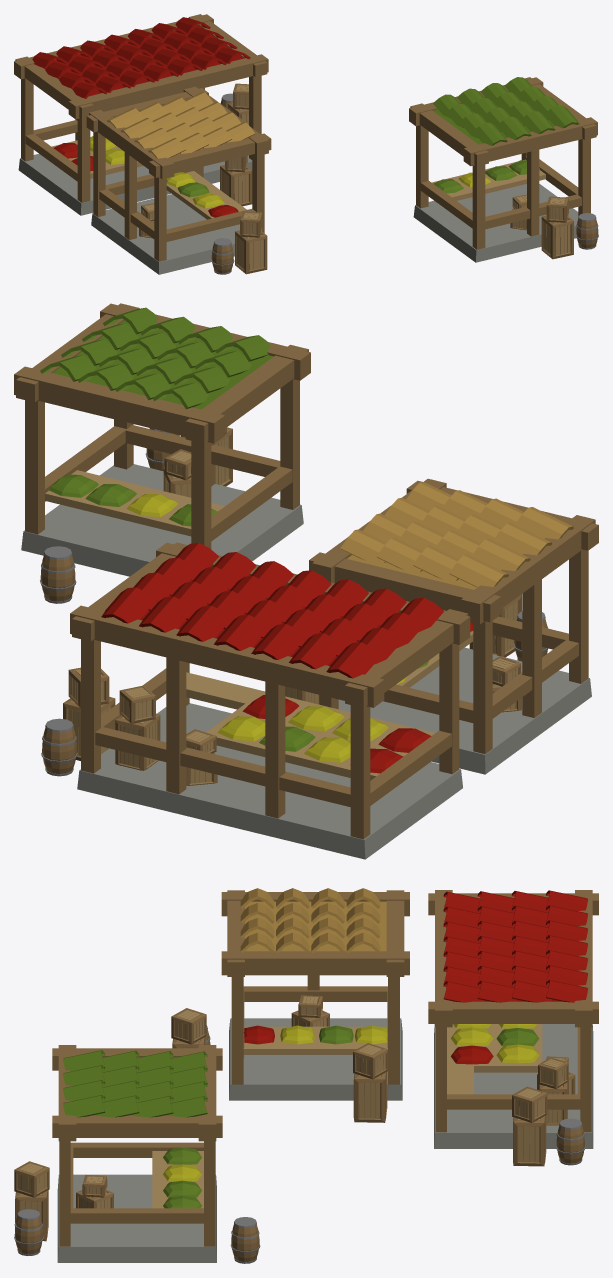
Rendered from market_second_age_level_2.glb.
The picture shows the model from 3 angles, top to bottom: view 1: azimuth 30°, elevation 25°; view 2: azimuth 150°, elevation 25°; view 3: azimuth 270°, elevation 25°; orthographic projection. The views are drawn at different scales.
Parts seen in each view (by area): view 1: Market_SecondAge_Level2; view 2: Market_SecondAge_Level2; view 3: Market_SecondAge_Level2.
Part boxes in pixels (x1,y1,x2,y2): Market_SecondAge_Level2: [14, 14, 598, 274]; Market_SecondAge_Level2: [14, 303, 598, 859]; Market_SecondAge_Level2: [14, 888, 598, 1263].
Bounding box in the file's own units: 1.92 × 0.657 × 2.01.
